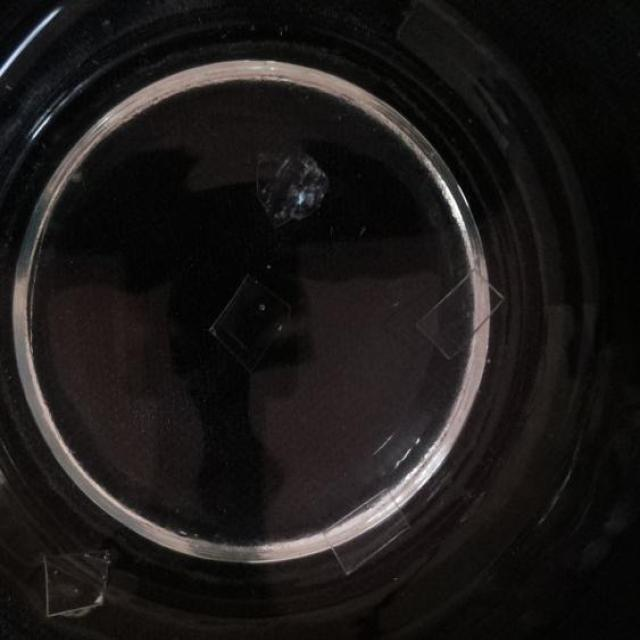fiber: (407, 268, 509, 368), (207, 266, 297, 373), (316, 490, 417, 584), (249, 148, 335, 229), (36, 542, 115, 624)
